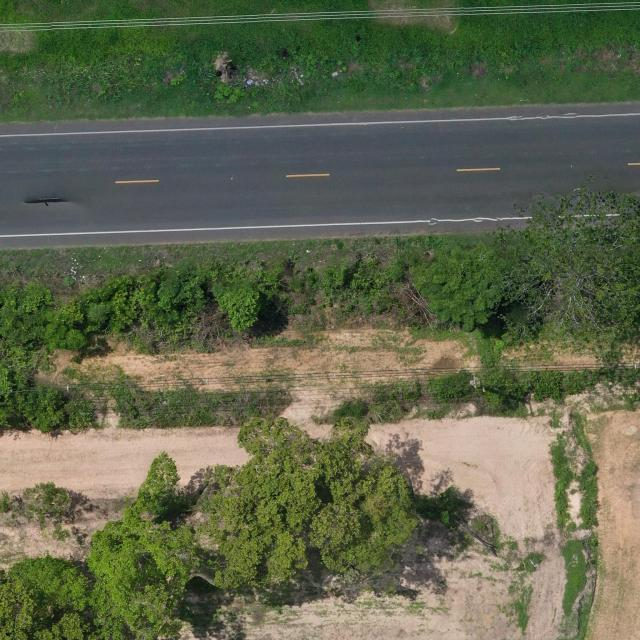Tree: (195, 411, 424, 594), (497, 185, 640, 345), (86, 506, 196, 640), (413, 239, 512, 333), (12, 554, 88, 616), (136, 451, 182, 517), (212, 284, 262, 332)
